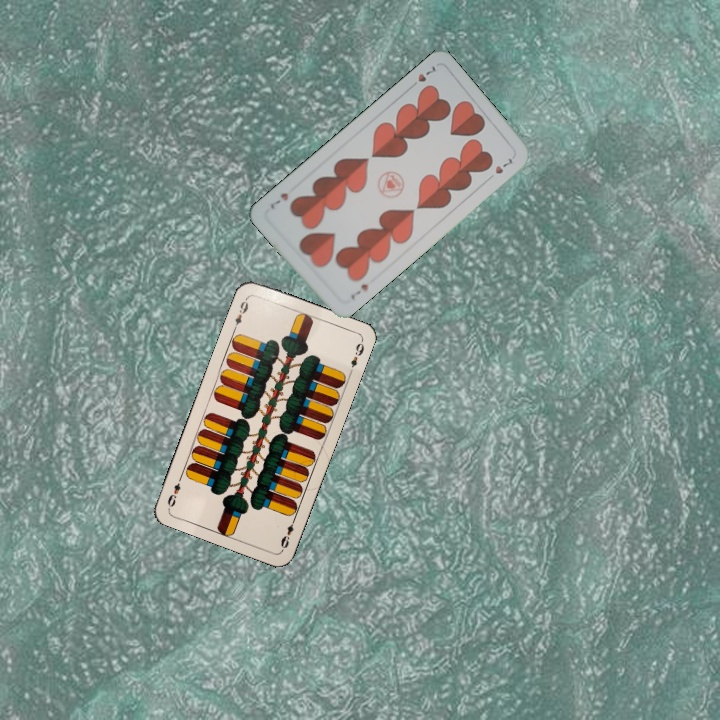E9: (276, 513, 298, 551), (230, 294, 251, 333)
H7: (406, 61, 438, 92), (346, 280, 370, 302)
